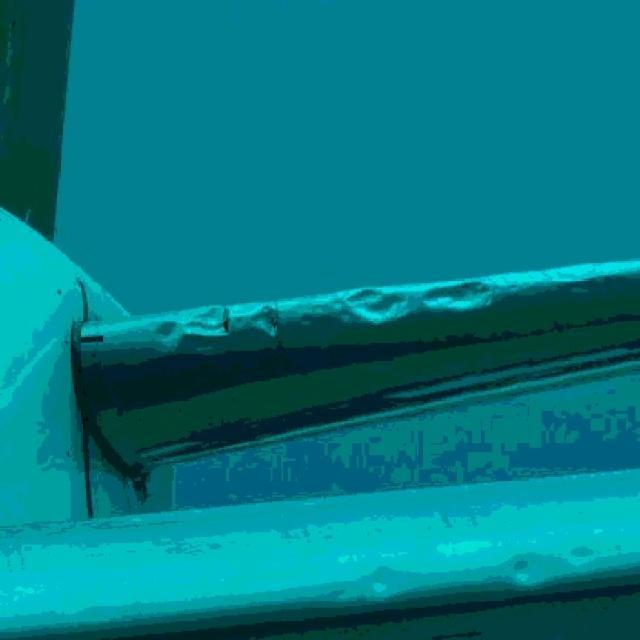dent: (346, 286, 411, 331), (421, 284, 492, 317), (186, 307, 234, 344), (506, 552, 540, 591), (250, 304, 284, 338), (366, 566, 399, 599), (153, 315, 184, 346)
